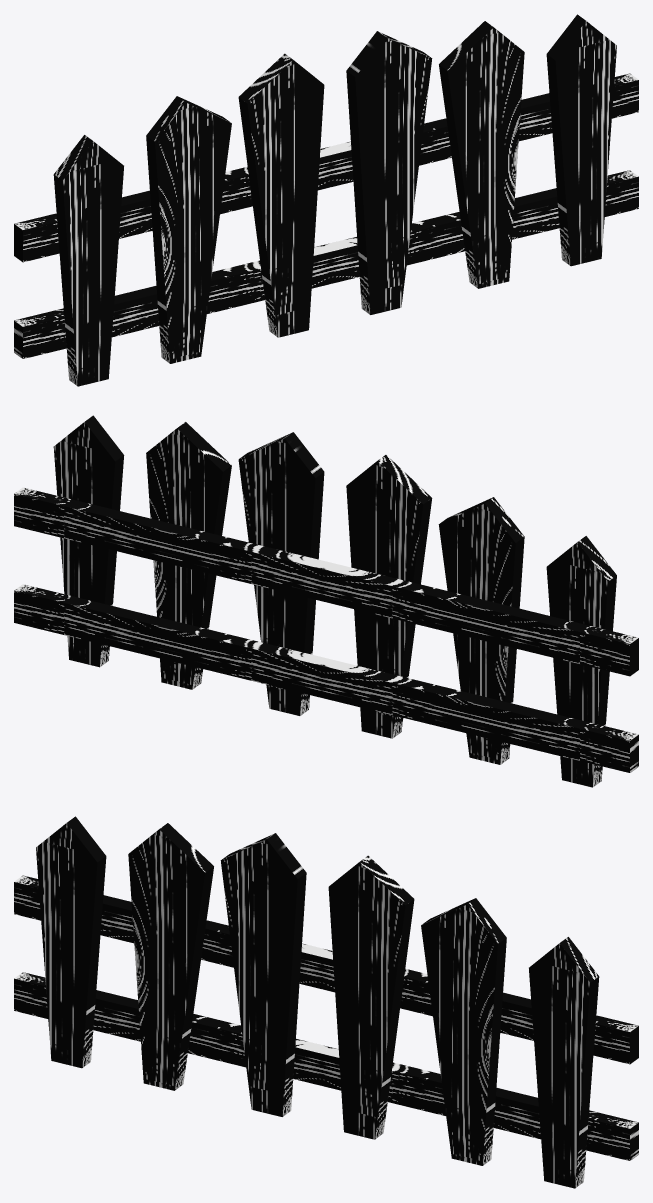
File: Fence.fbx
3 renders of one model, top to bottom at view 1: azimuth 30°, elevation 25°; view 2: azimuth 150°, elevation 25°; view 3: azimuth 330°, elevation 25°, orthographic.
Visible parts, largest first — view 1: Fence; view 2: Fence; view 3: Fence.
Boxes of the visible parts, <box> form: Fence: <box>14,14,638,386</box>; Fence: <box>14,415,638,787</box>; Fence: <box>14,816,638,1188</box>.
Bounding box in the file's own units: 400 × 170 × 20.
